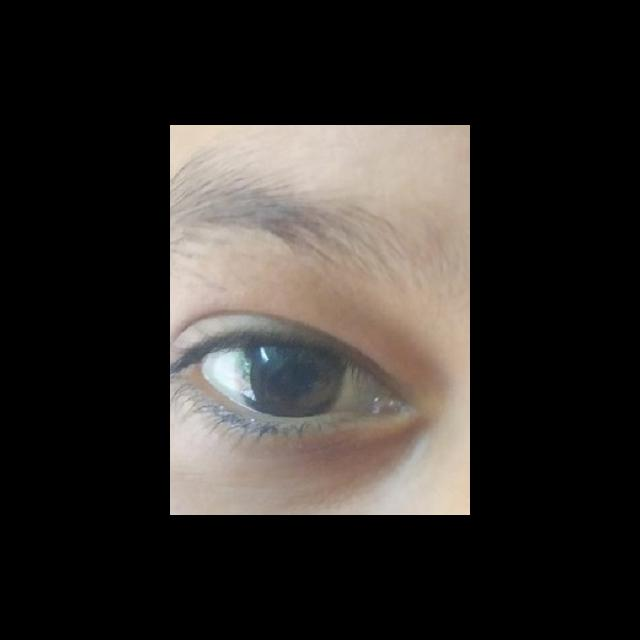eye: (199, 336, 388, 419)
iris: (239, 339, 344, 415)
